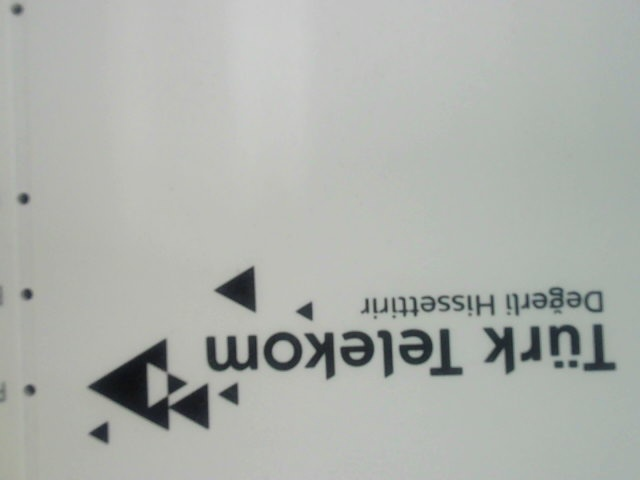AQ_TURKTelekom: (54, 261, 624, 451)
